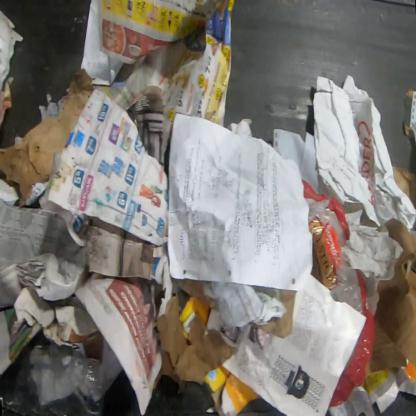cardboard: (368, 217, 415, 376), (204, 364, 261, 415), (178, 295, 211, 344)
soft_plastic: (302, 179, 380, 408), (28, 342, 106, 416)
